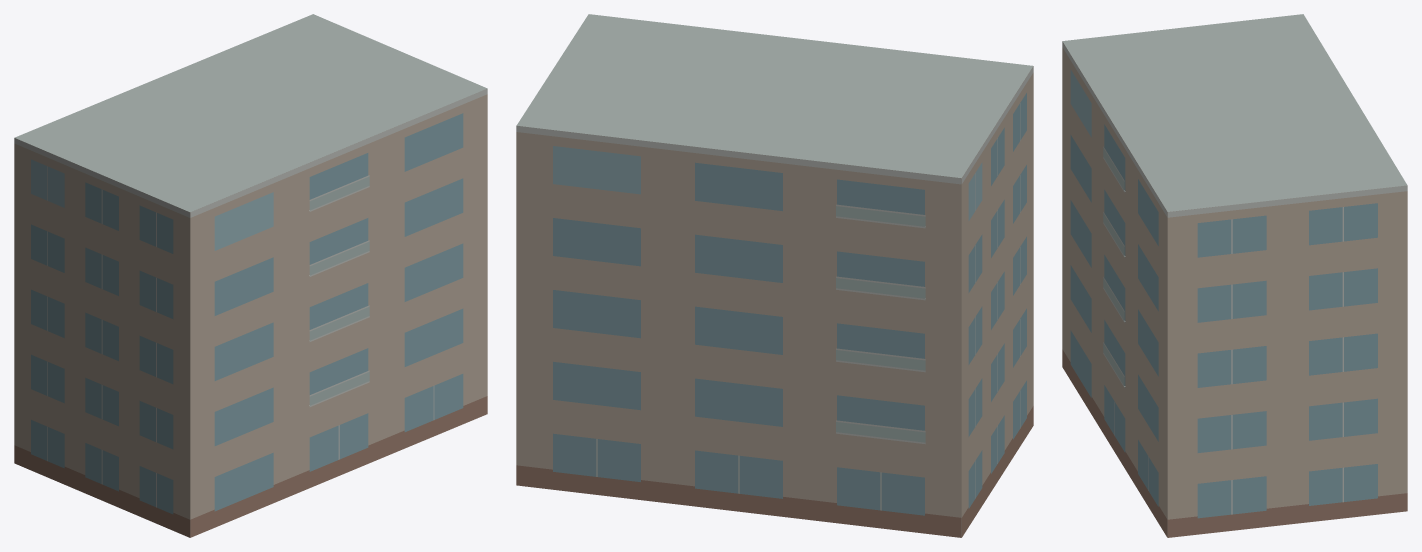
The model's file is survey-upis-32720928.glb.
3 renders of one model, left to right at view 1: azimuth 30°, elevation 25°; view 2: azimuth 150°, elevation 25°; view 3: azimuth 270°, elevation 25°, orthographic. The views are drawn at different scales.
Visible parts, largest first — view 1: survey-upis-32720928.tmp; view 2: survey-upis-32720928.tmp; view 3: survey-upis-32720928.tmp.
Boxes of the visible parts, <box> form: survey-upis-32720928.tmp: <box>14,14,487,537</box>; survey-upis-32720928.tmp: <box>516,14,1033,537</box>; survey-upis-32720928.tmp: <box>1062,14,1407,537</box>.
Bounding box in the file's own units: 18.26 × 14 × 13.46.
